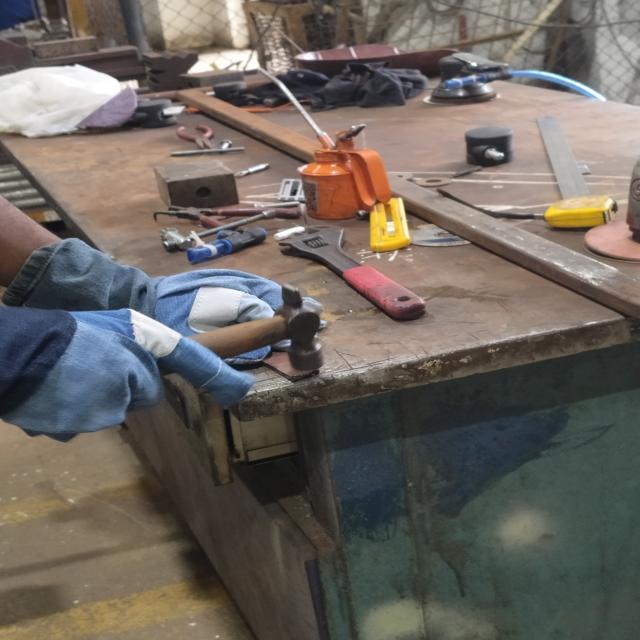Gloves-Detection: (15, 222, 248, 455)
